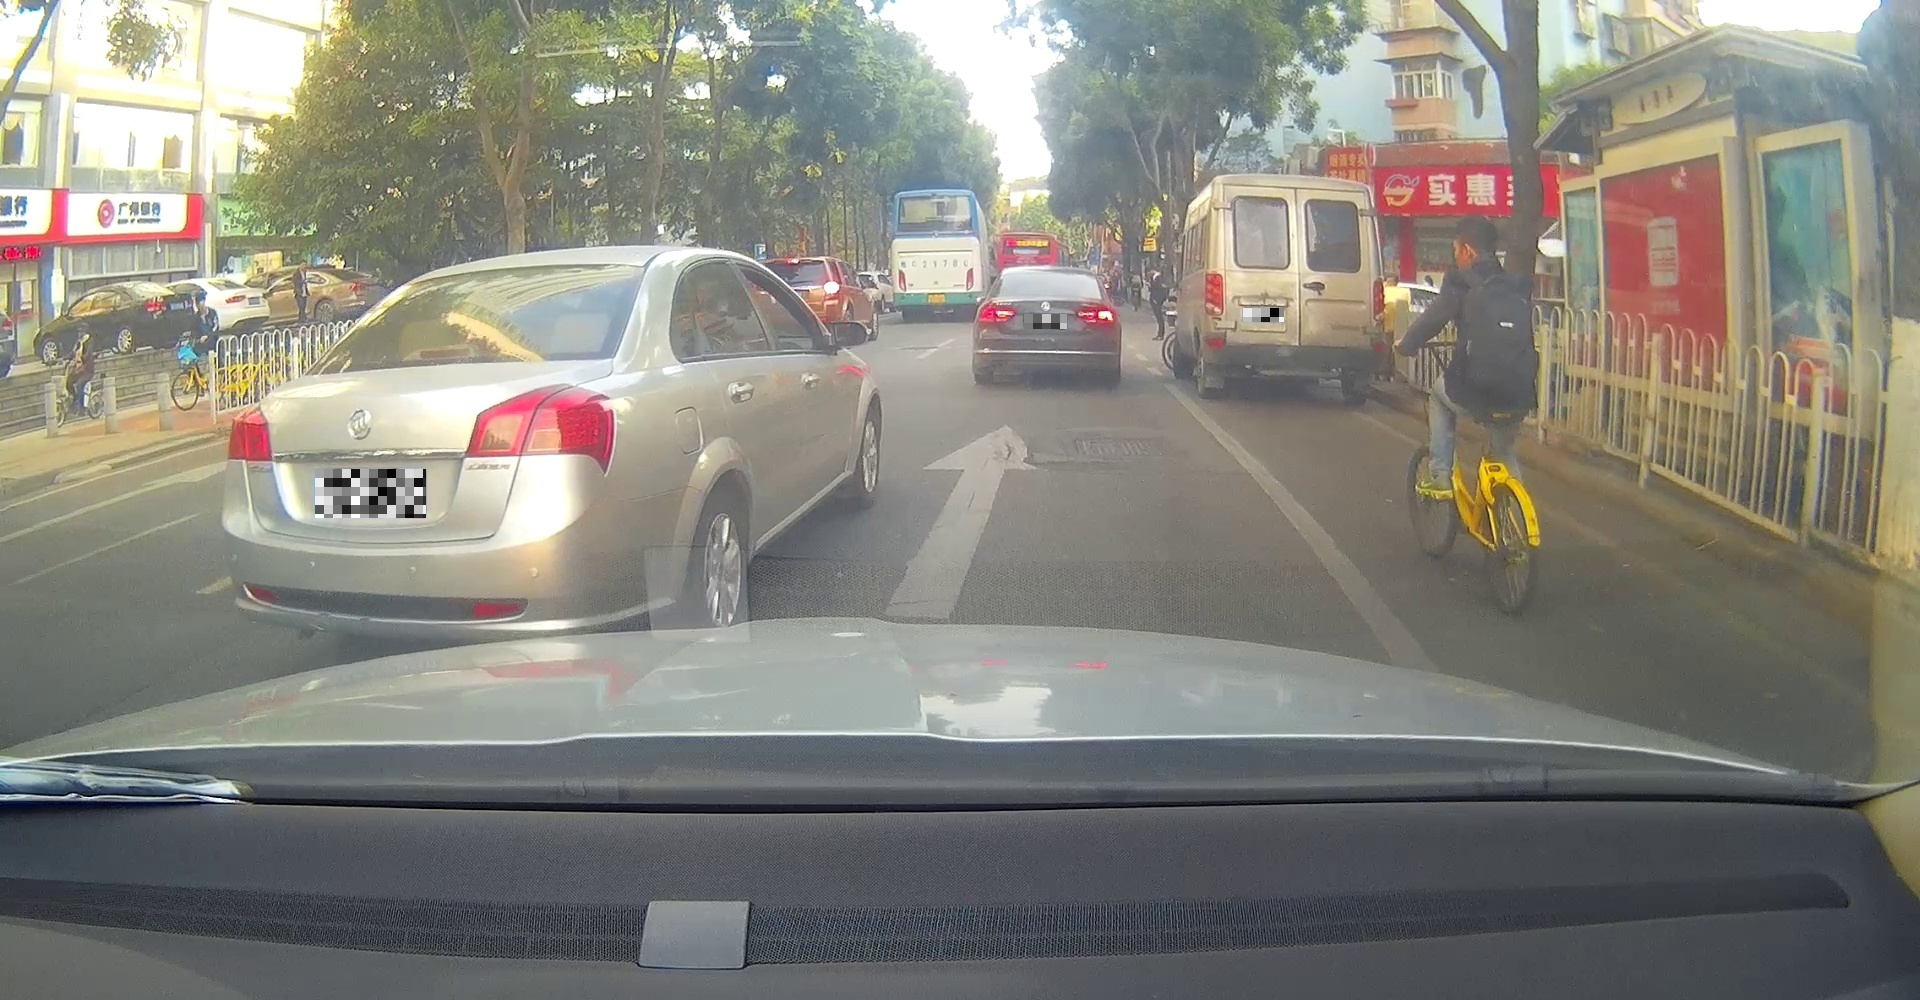L_light: (226, 404, 272, 462), (977, 301, 1016, 324), (1206, 274, 1224, 316)
R_light: (466, 385, 615, 475), (1078, 302, 1116, 327), (1373, 279, 1385, 321)
T_light: (419, 346, 470, 360), (1283, 188, 1309, 195), (1036, 272, 1055, 277)
day-brake: (975, 266, 1121, 383)
day-no: (221, 264, 651, 638), (1203, 173, 1385, 396)
plate_1: (315, 470, 425, 518)
plate_2: (1023, 313, 1067, 329)
plate_3: (1243, 308, 1284, 322)
